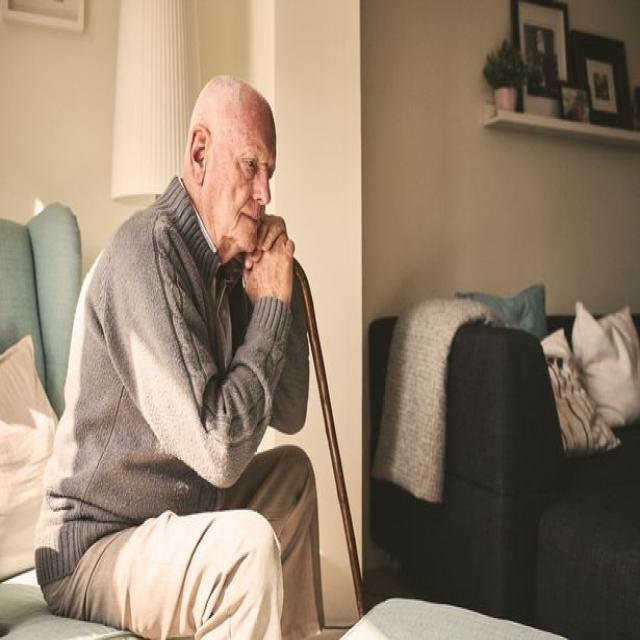sitting: (27, 74, 382, 638)
